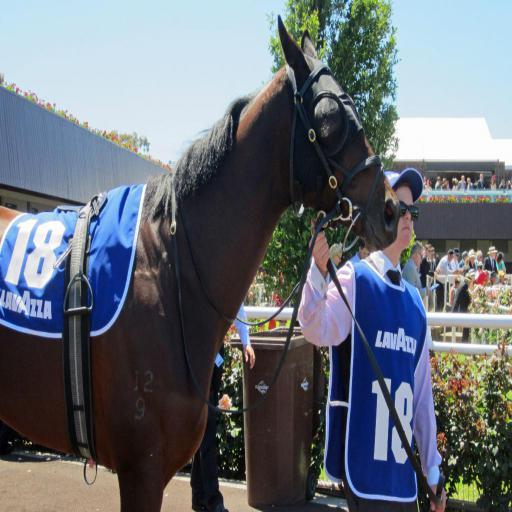Horse: (0, 13, 402, 511)
